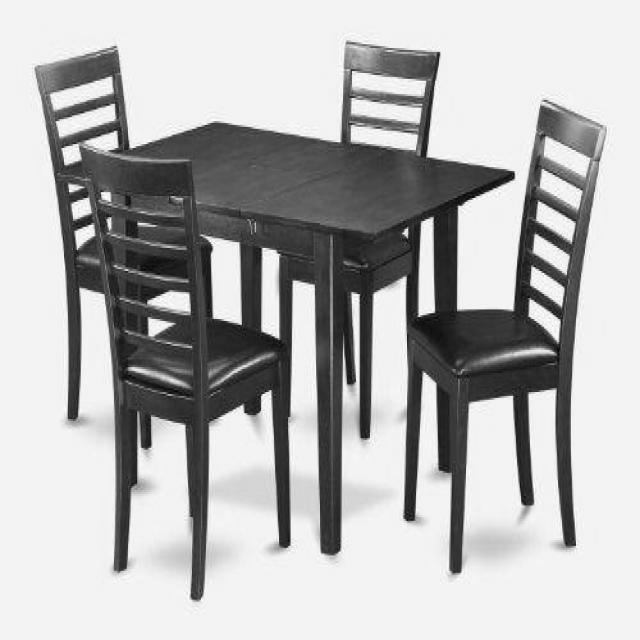chair: (78, 137, 293, 598), (404, 100, 613, 570), (29, 42, 214, 448), (278, 39, 442, 436)
table: (58, 123, 510, 552)
